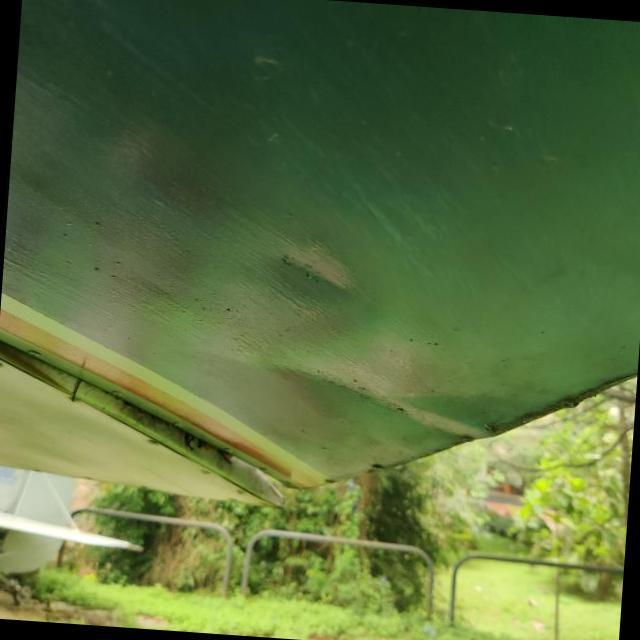dent: (230, 312, 532, 478), (275, 238, 355, 292)
